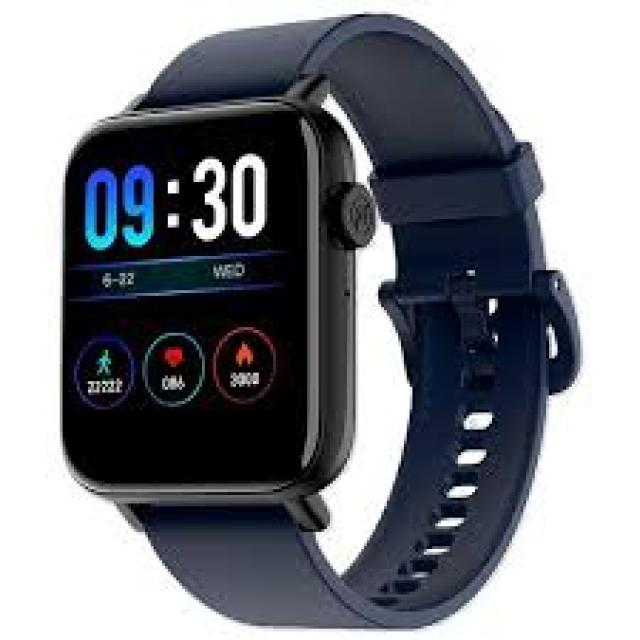objects: (63, 9, 577, 626)
